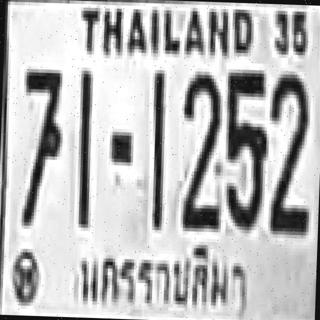N01: (149, 70, 166, 204), (76, 69, 92, 209), (76, 69, 92, 202)
N02: (177, 70, 222, 212), (266, 71, 309, 212), (178, 71, 221, 202)
N05: (224, 69, 268, 167)
N07: (19, 65, 65, 223)
P30: (68, 235, 252, 320)
